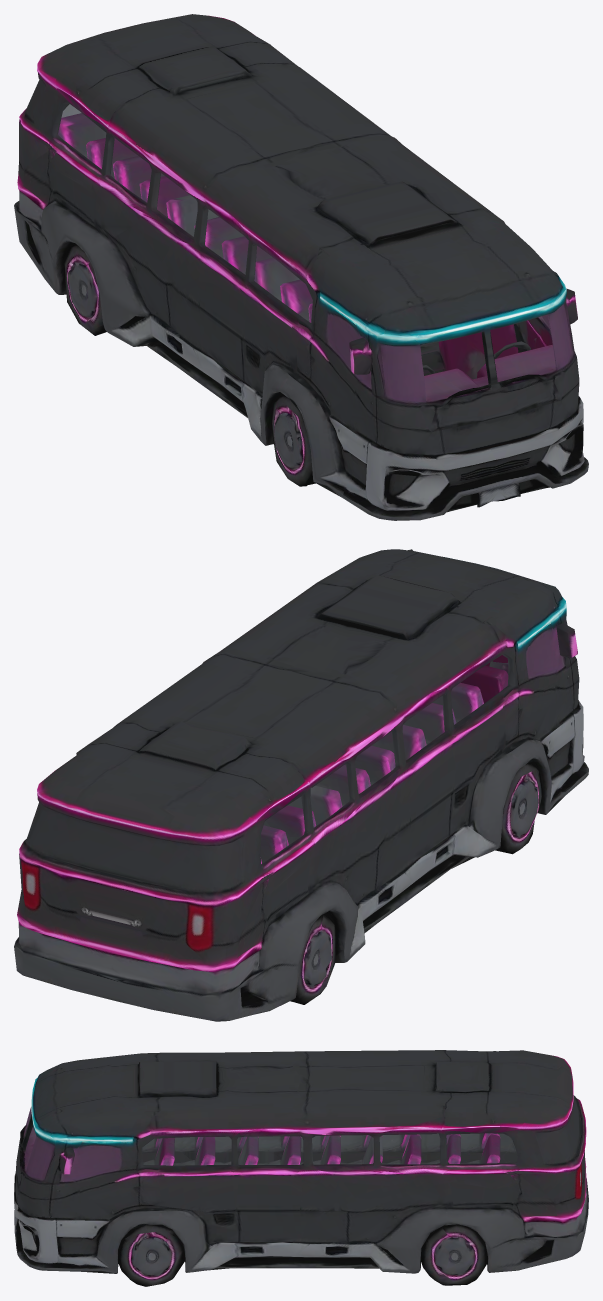
The model's file is prop-bus.glb.
The picture shows the model from 3 angles, top to bottom: view 1: azimuth 30°, elevation 25°; view 2: azimuth 150°, elevation 25°; view 3: azimuth 270°, elevation 25°; orthographic projection. The views are drawn at different scales.
Visible parts, largest first — view 1: body; view 2: body; view 3: body.
Boxes of the visible parts, x1,y1,x2,y2 form: body: [14, 14, 588, 520]; body: [14, 549, 588, 1021]; body: [14, 1050, 588, 1286].
Size of the model in its own units: 0.3654 by 0.334 by 0.9999.
Materials: 1 (1 with a texture image).
